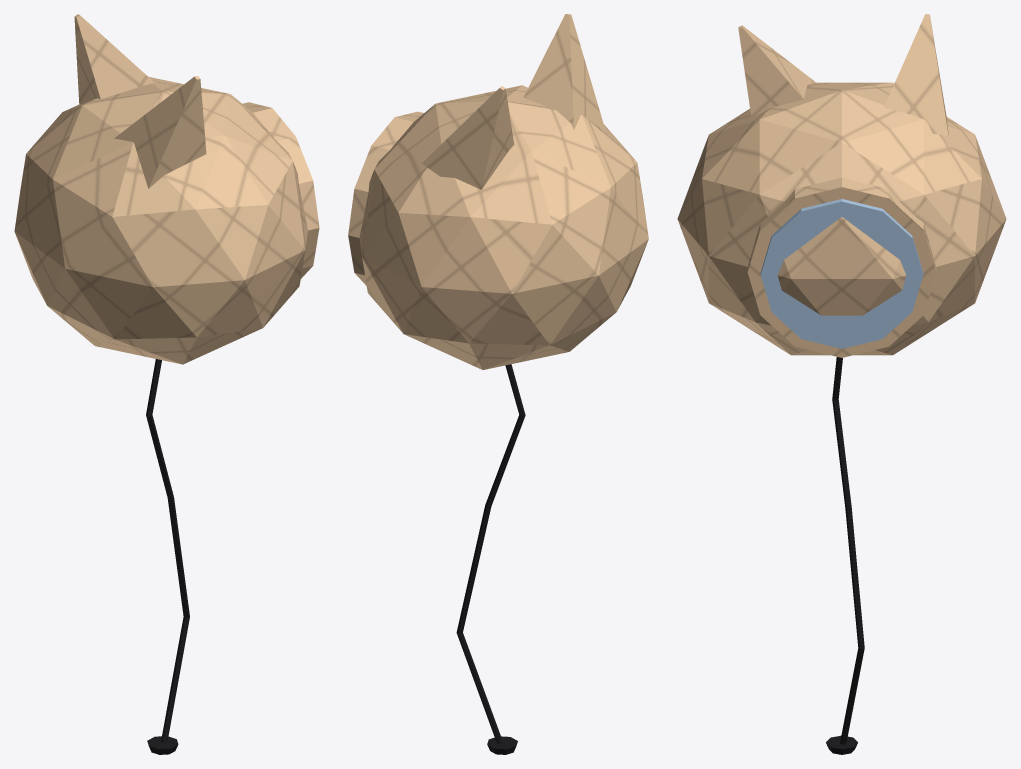
The model's file is Dirigeable.glb.
3 views of the same model, side by side, from view 1: azimuth 30°, elevation 25°; view 2: azimuth 150°, elevation 25°; view 3: azimuth 270°, elevation 25° (orthographic).
Visible parts, largest first — view 1: Dirigeable; view 2: Dirigeable; view 3: Dirigeable.
Boxes of the visible parts, x1=… form: Dirigeable: x1=14, y1=14, x2=319, y2=754; Dirigeable: x1=348, y1=14, x2=648, y2=754; Dirigeable: x1=677, y1=14, x2=1006, y2=754.
Bounding box in the file's own units: 4.37 × 12.15 × 5.06.
3 materials, 1 textured.
